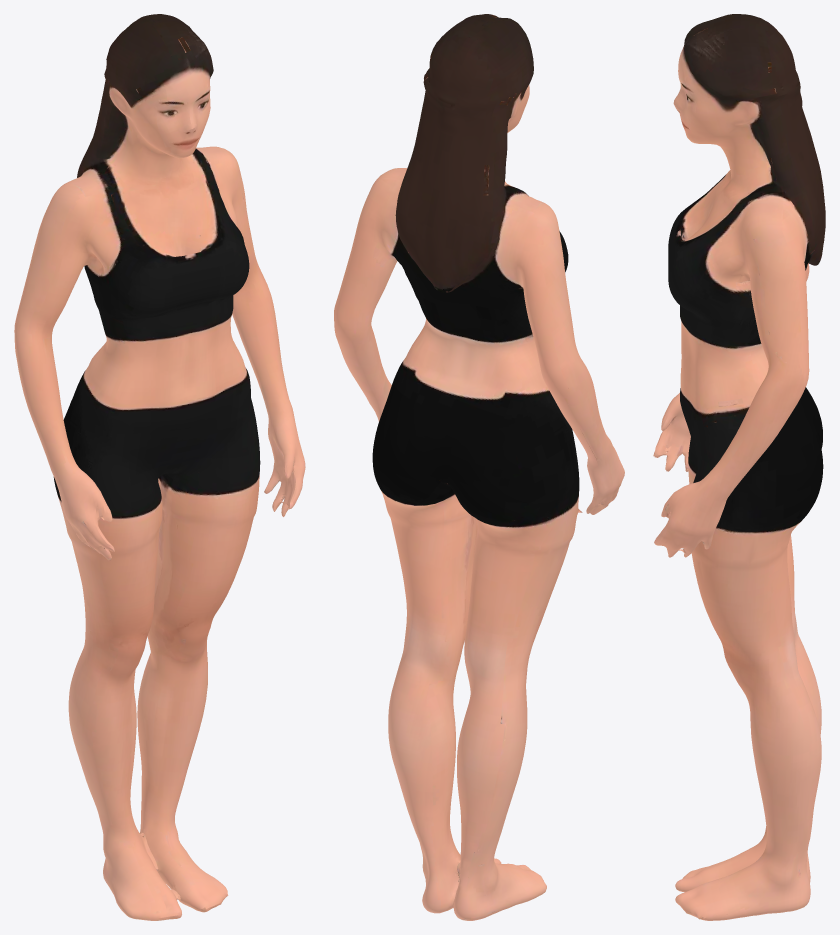
File: female-avatar.mobile.glb
The picture shows the model from 3 angles, left to right: view 1: azimuth 30°, elevation 25°; view 2: azimuth 150°, elevation 25°; view 3: azimuth 270°, elevation 25°; orthographic projection.
Visible parts, largest first — view 1: Mesh0; view 2: Mesh0; view 3: Mesh0.
Part boxes in pixels (x1,y1,x2,y2): Mesh0: (14,14,305,920); Mesh0: (334,14,624,920); Mesh0: (653,14,825,920).
Size of the model in its own units: 0.5745 by 1.91 by 0.3396.
Materials: 1 (1 with a texture image).
